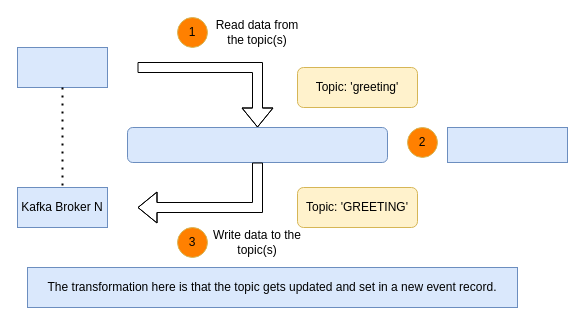
Image size: 585x325. Some labels were removed from this diagram. Each missing label, with the box of its shape:
- Transformation: (446, 126, 568, 162)
kafka Broker 1: (16, 46, 108, 88)
Kafka Streams: (126, 126, 388, 162)
